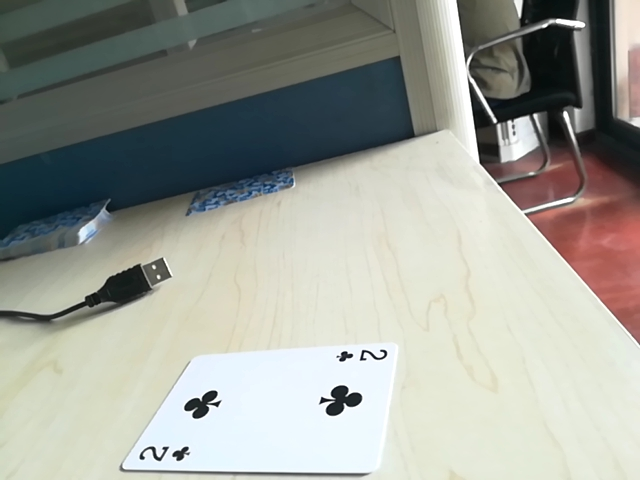mh 2: (130, 446, 194, 471), (330, 346, 389, 369)
